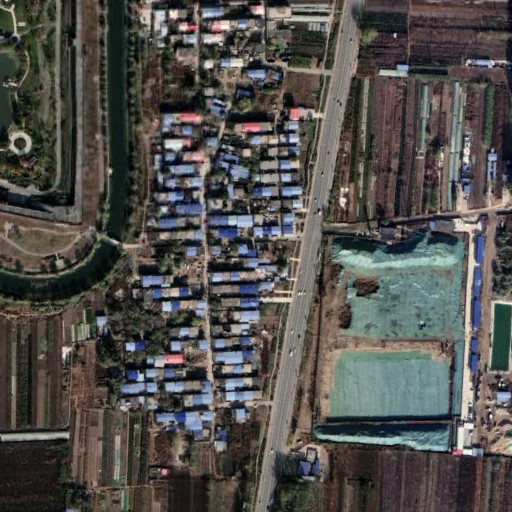cw: (309, 231, 467, 455)
